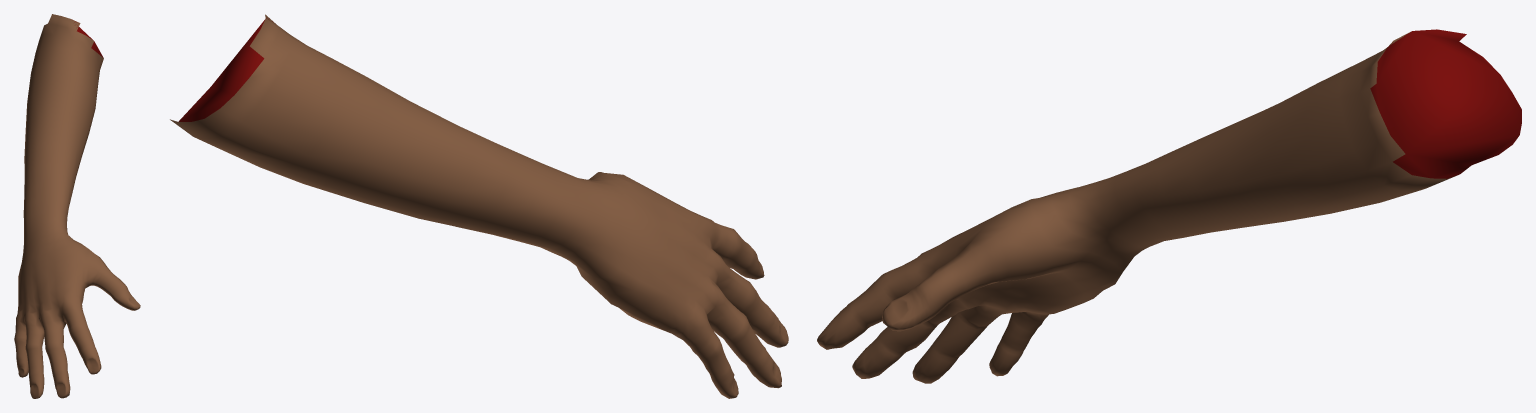
File: SM_Part_M3_arm_r.gltf
The picture shows the model from 3 angles, left to right: view 1: azimuth 30°, elevation 25°; view 2: azimuth 150°, elevation 25°; view 3: azimuth 270°, elevation 25°; orthographic projection. The views are drawn at different scales.
Parts seen in each view (by area): view 1: SM_Part_M3_arm_r; view 2: SM_Part_M3_arm_r; view 3: SM_Part_M3_arm_r.
Part boxes in pixels (x1,y1,x2,y2): SM_Part_M3_arm_r: (14,14,140,398); SM_Part_M3_arm_r: (170,14,788,398); SM_Part_M3_arm_r: (817,29,1521,383).
Bounding box in the file's own units: 0.2333 × 0.2933 × 0.3715.
